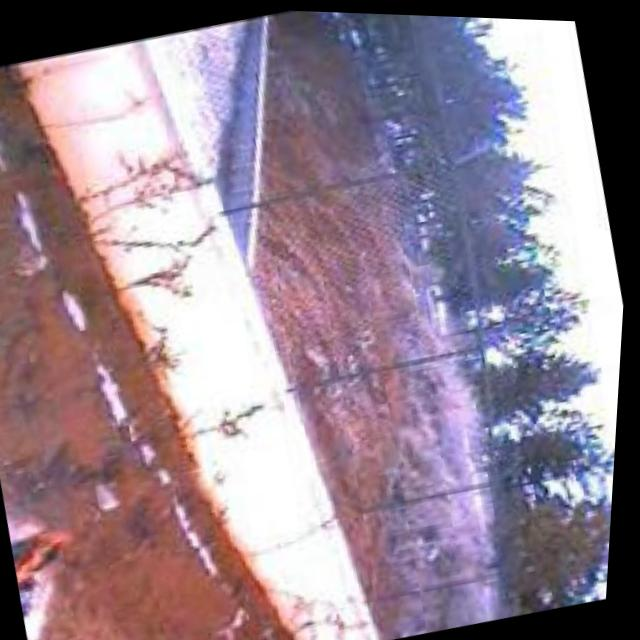Fire: (11, 511, 103, 612)
